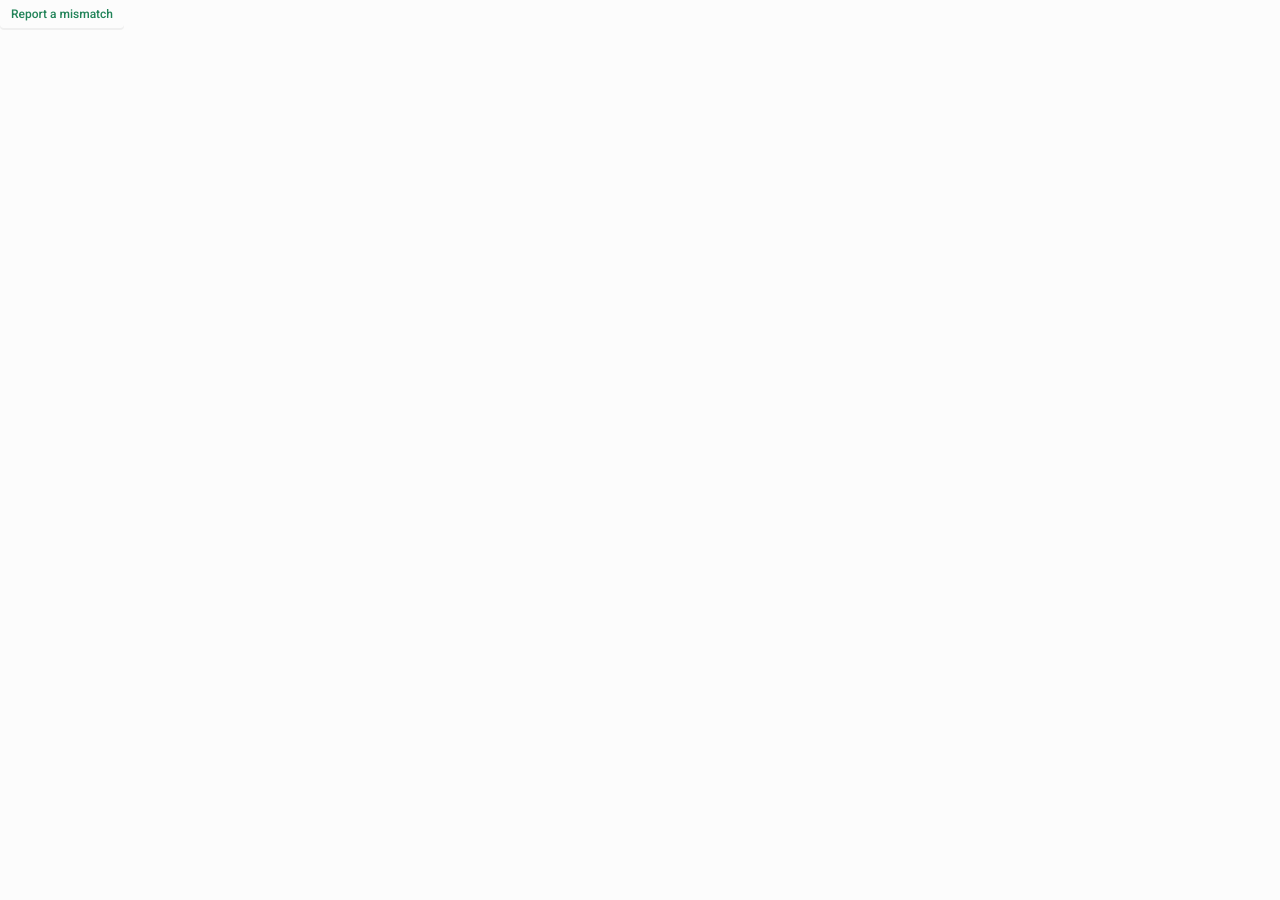
it: ReportDialog › without a field, asks which field and sends nothing until one is chosen
Step 1. Click the button "Report a mismatch" → {"x": 62, "y": 14}, box [0,0,124,28]
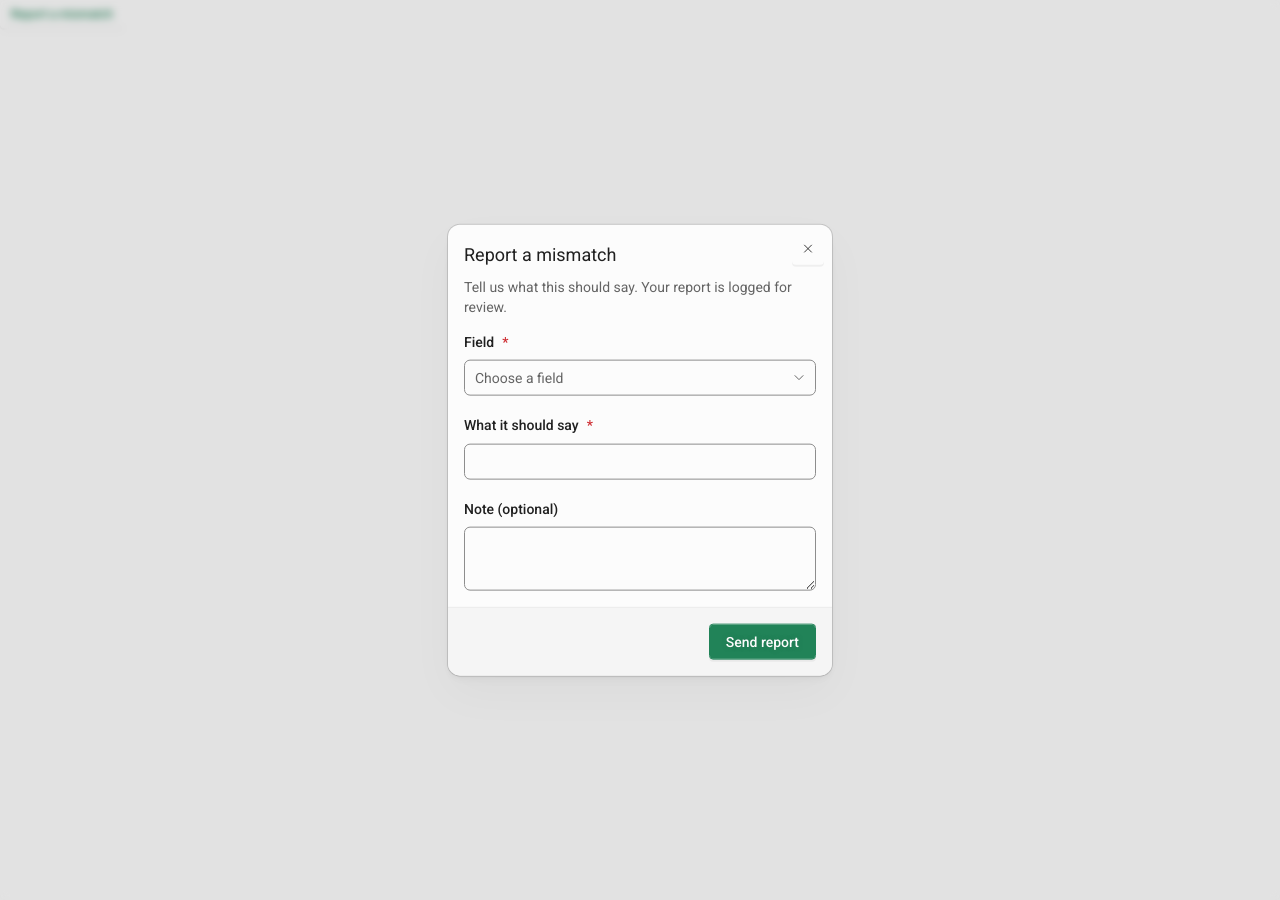
Step 2. Type "Mid-level" into the field labelled "What it should say *" → {"x": 640, "y": 461}, box [464,443,816,479]
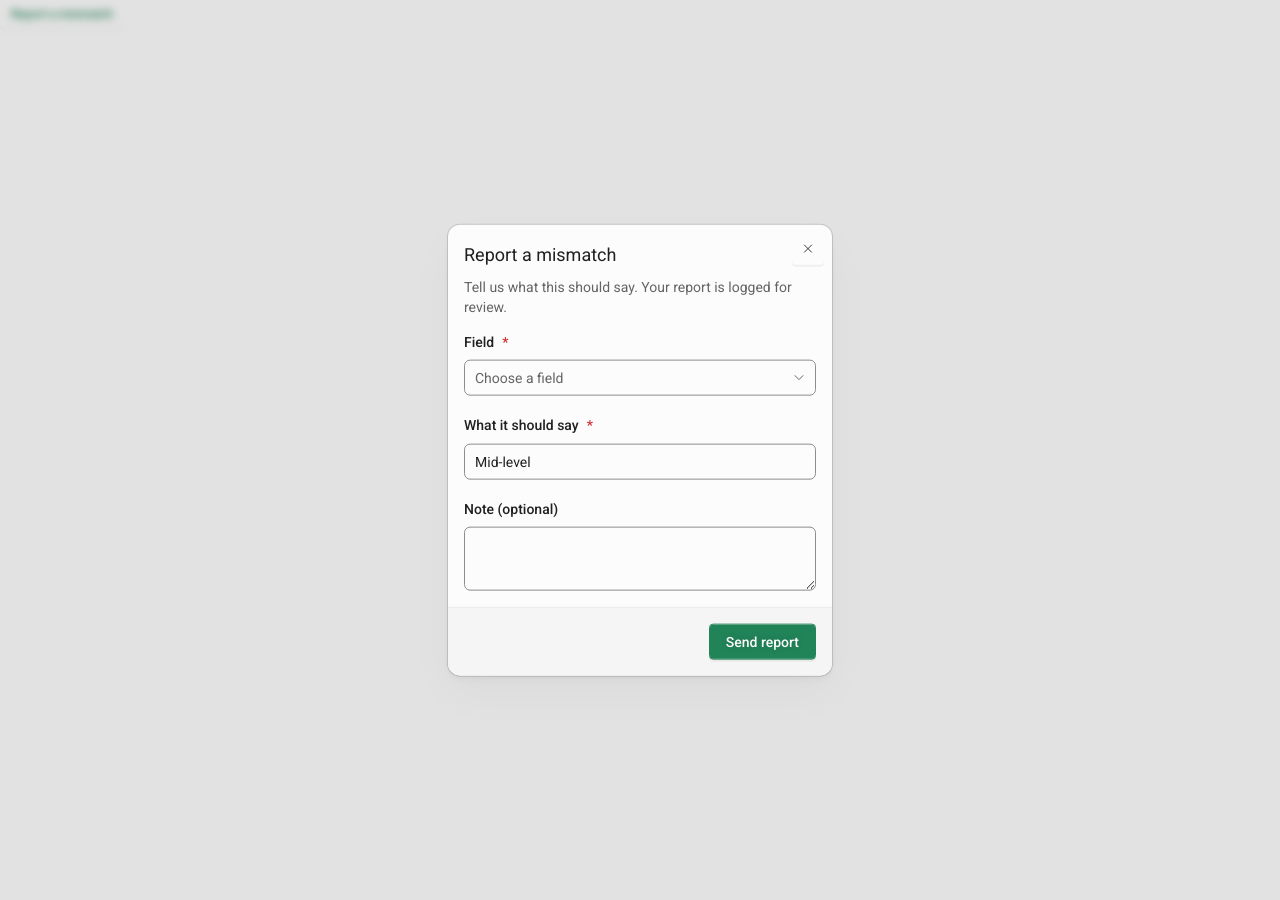
Step 3. Click the button "Send report" → {"x": 762, "y": 641}, box [709,623,816,659]
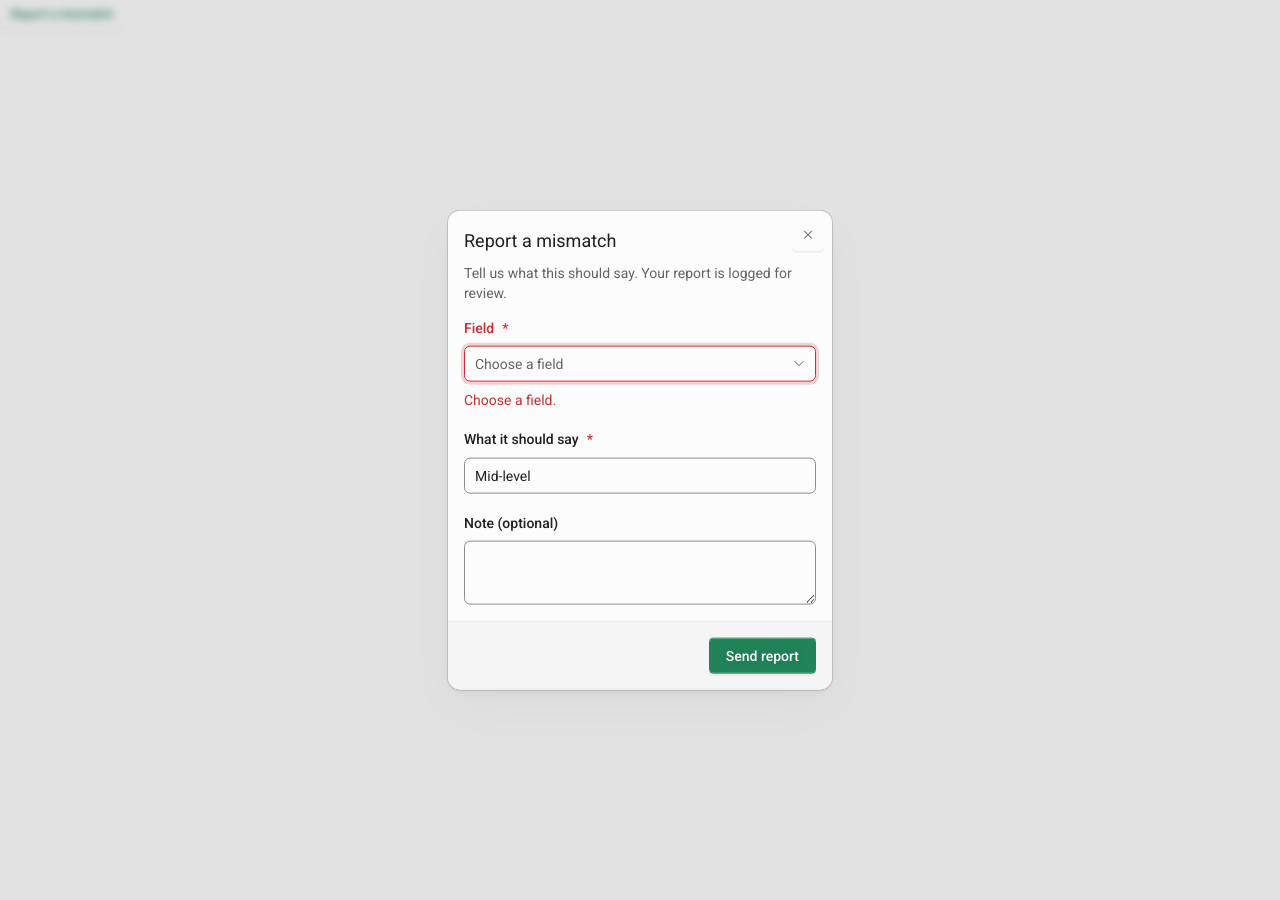
Expected: the text "Choose a field." is shown, [464,392,556,408]
